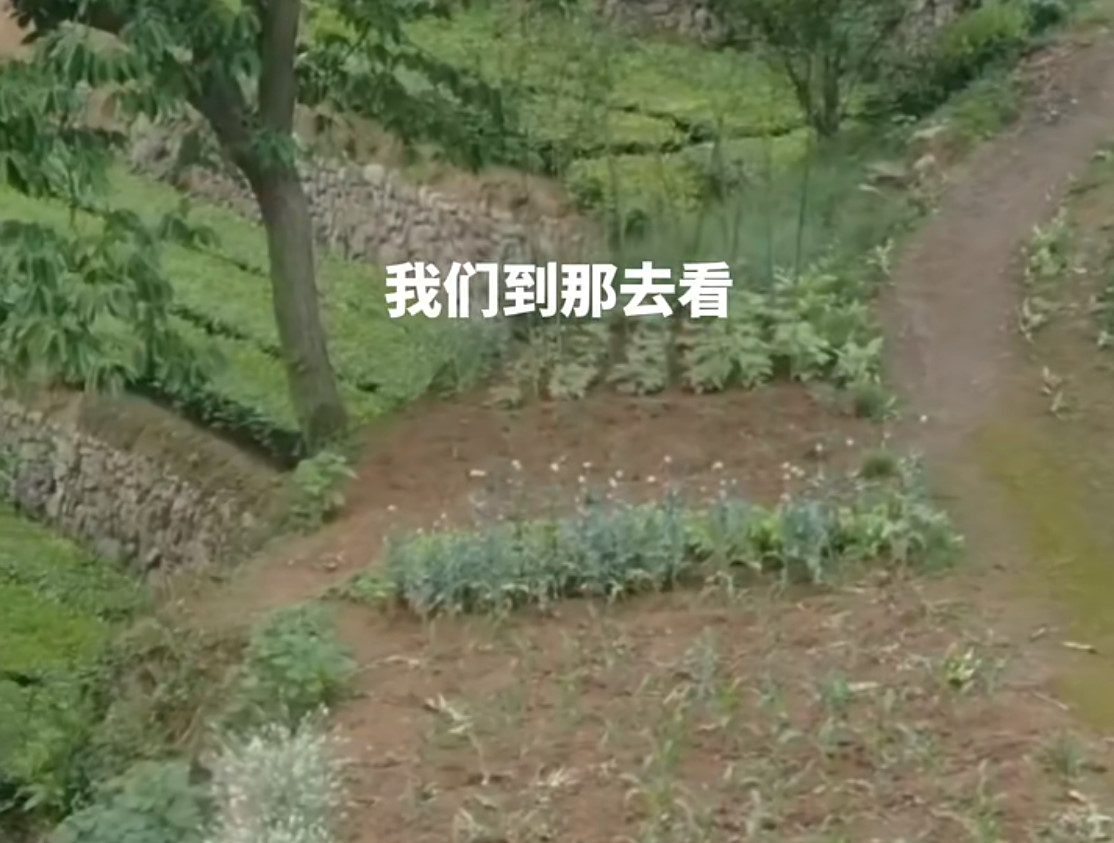Poppy: (336, 426, 959, 615)
